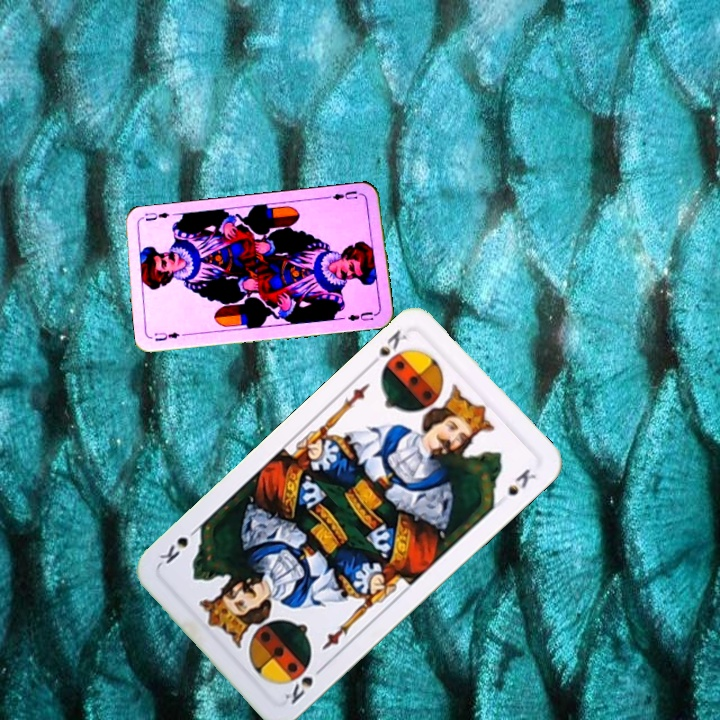EU: (324, 187, 364, 202), (150, 328, 182, 344)
SK: (280, 661, 328, 707), (364, 325, 410, 371)
